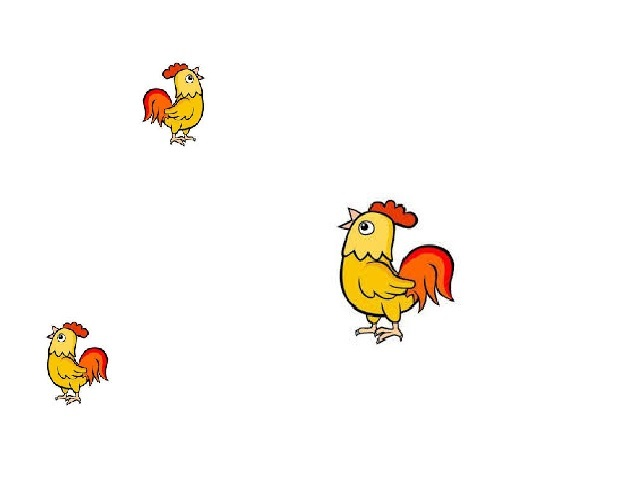crown: (372, 197, 421, 231), (63, 320, 89, 336), (162, 61, 187, 75)
eyes: (358, 220, 375, 234), (182, 73, 193, 84), (57, 332, 67, 341)
feet: (353, 320, 410, 351), (53, 390, 83, 409), (171, 134, 197, 145)
tail: (400, 245, 455, 307), (79, 347, 112, 385), (143, 91, 174, 127)
